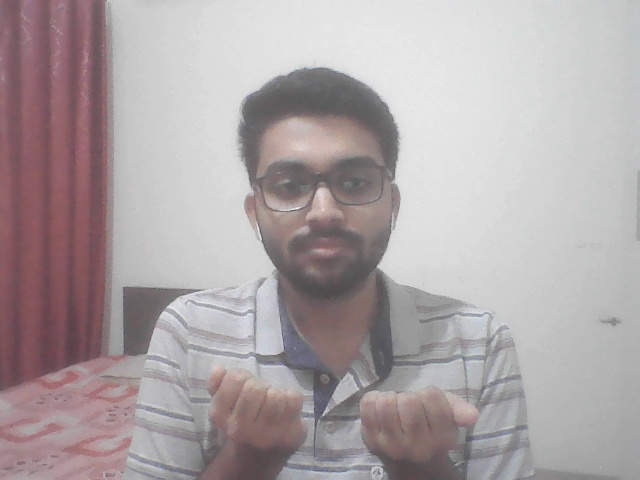want: (150, 333, 524, 474)
